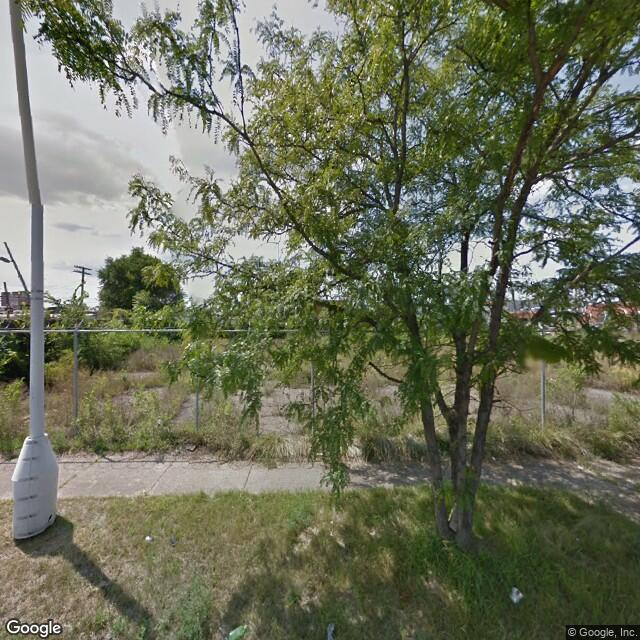litter: (223, 625, 249, 640), (509, 583, 522, 606), (326, 620, 339, 639), (141, 534, 158, 542)
